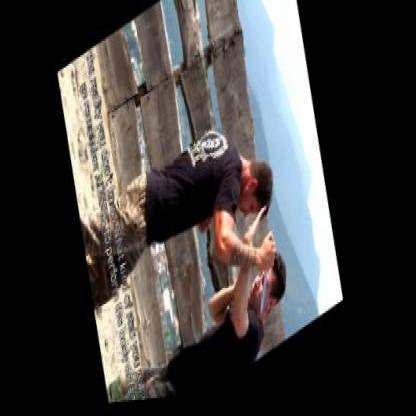knife: (248, 232, 290, 324)
